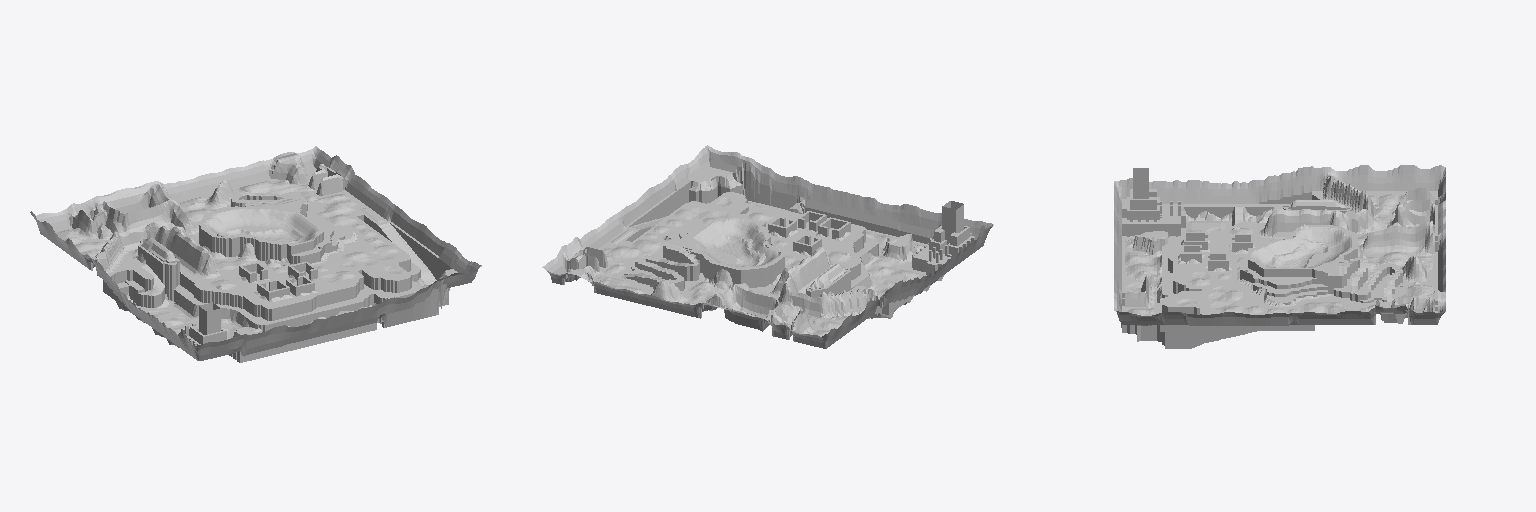
Rendered from snowline.obj.
3 views of the same model, side by side, from view 1: azimuth 30°, elevation 25°; view 2: azimuth 150°, elevation 25°; view 3: azimuth 270°, elevation 25° (orthographic).
Parts seen in each view (by area): view 1: SnowLine; view 2: SnowLine; view 3: SnowLine.
Boxes of the visible parts, x1=… form: SnowLine: x1=30, y1=146, x2=481, y2=362; SnowLine: x1=542, y1=145, x2=993, y2=348; SnowLine: x1=1114, y1=165, x2=1445, y2=348.
Size of the model in its own units: 124 by 23.25 by 124.